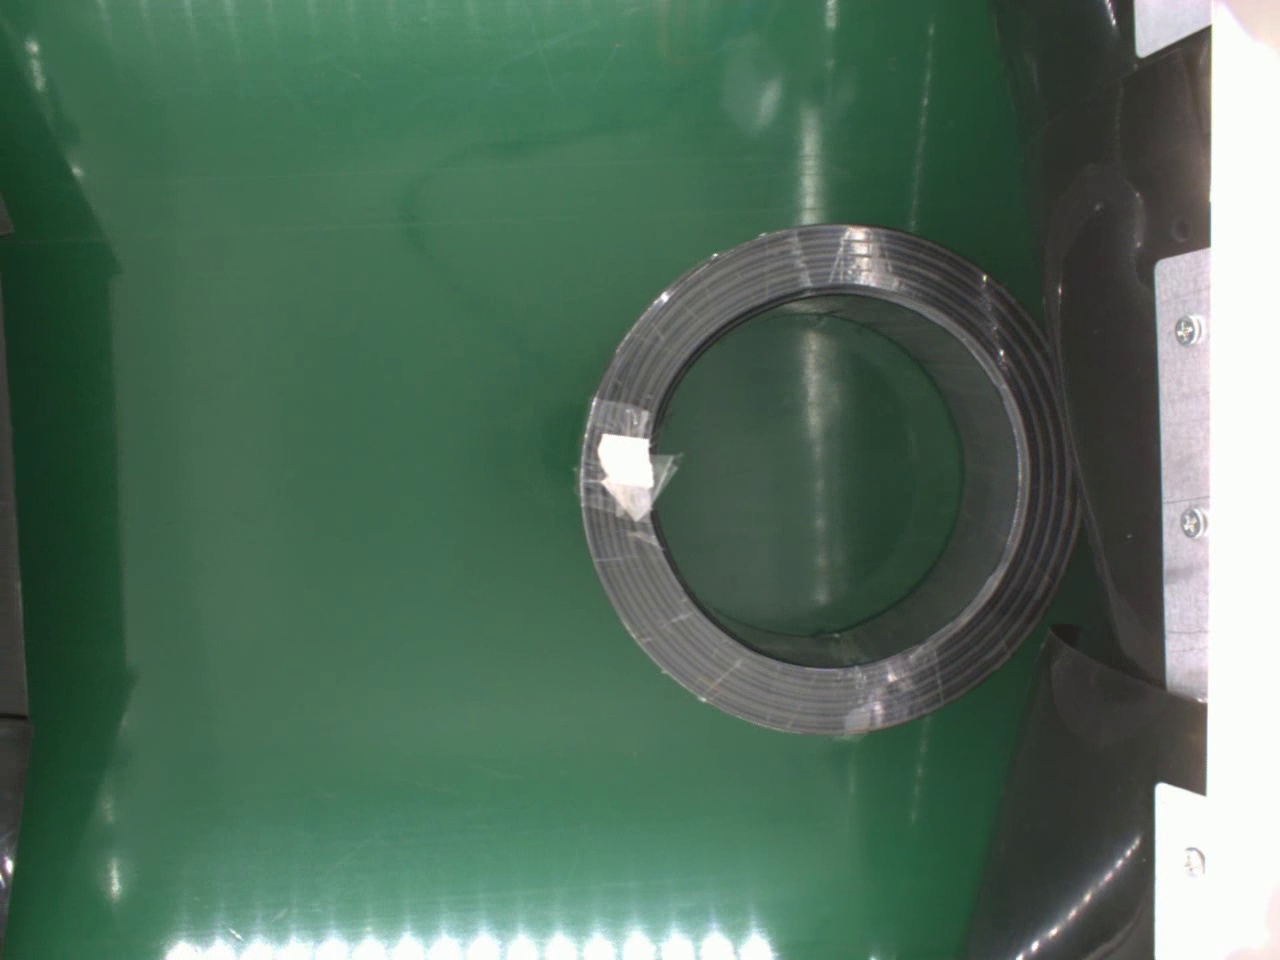black: (577, 218, 1084, 739)
